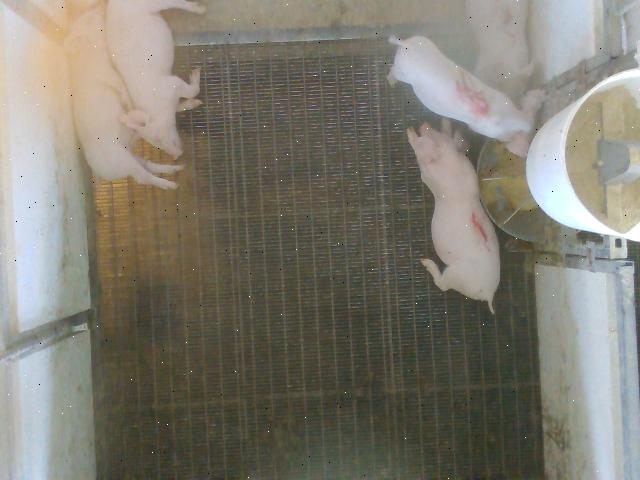pig-1: (408, 119, 500, 312)
pig-3: (466, 1, 534, 106)
pig-5: (390, 37, 544, 158)
